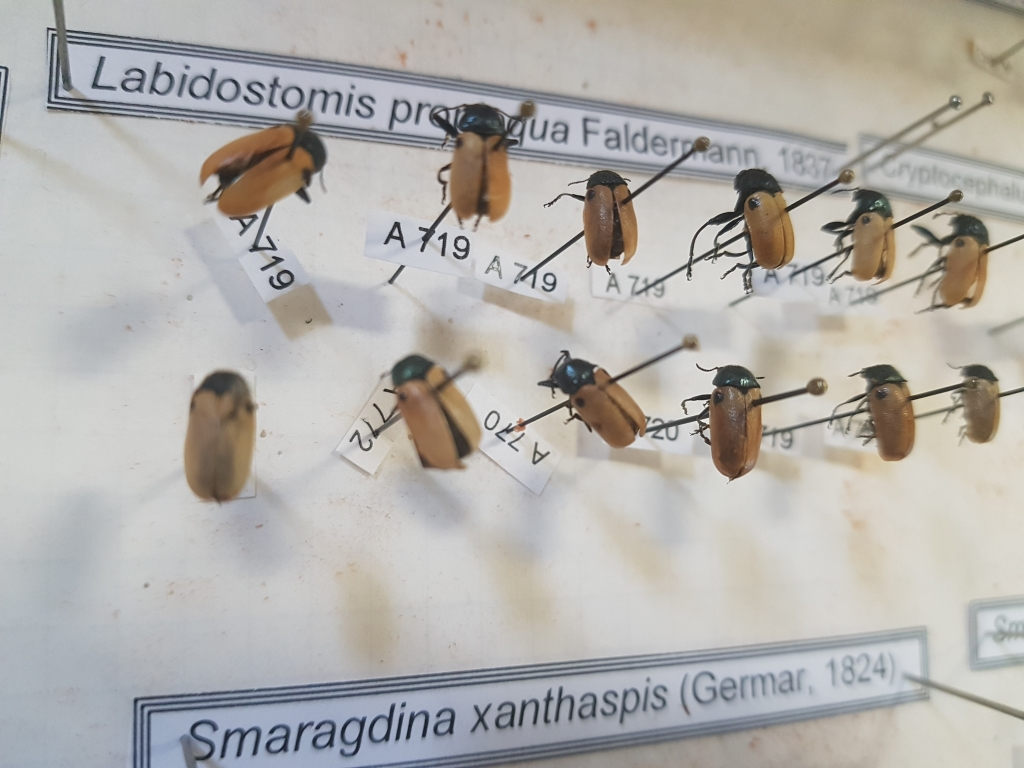Labidostomis_propinqua: (681, 161, 799, 300), (200, 115, 340, 224), (533, 342, 657, 454), (430, 91, 526, 228), (387, 350, 491, 476), (539, 158, 649, 274), (178, 370, 265, 506), (681, 362, 767, 487), (812, 182, 900, 297), (908, 196, 991, 315), (834, 359, 919, 467), (949, 360, 1007, 451)
